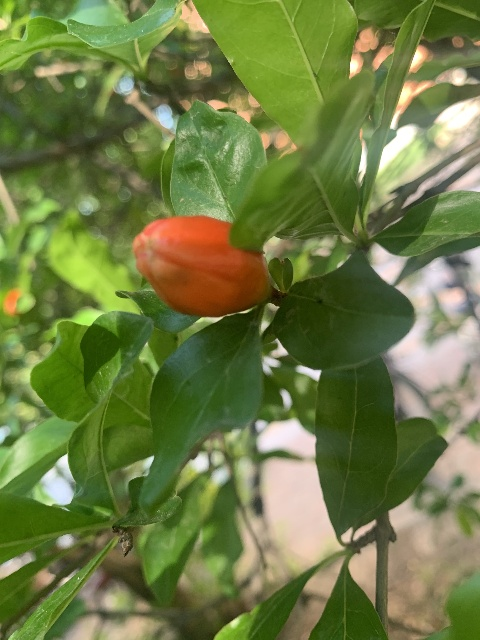bud: (131, 214, 270, 317)
